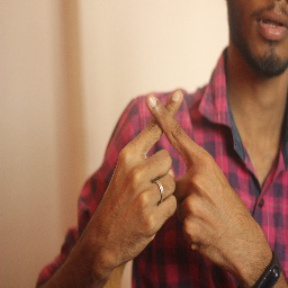X: (116, 80, 221, 198)
